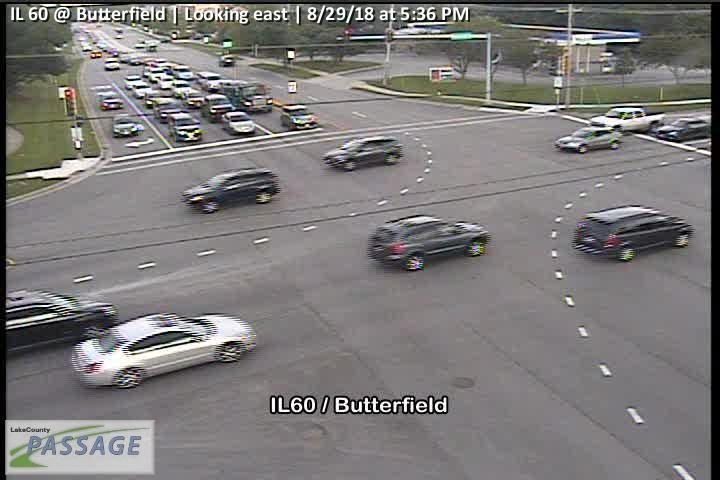SUV: (571, 205, 694, 263), (369, 214, 490, 270), (183, 169, 281, 213), (321, 135, 402, 170), (556, 126, 621, 154), (279, 104, 320, 132), (200, 93, 235, 124), (168, 112, 202, 142), (152, 97, 180, 123), (195, 71, 222, 93), (170, 64, 194, 81), (144, 88, 162, 106), (132, 81, 149, 99), (123, 75, 140, 90), (103, 58, 120, 70), (218, 54, 234, 66)
Sedan: (71, 311, 255, 389), (6, 290, 115, 351), (655, 116, 710, 142), (221, 111, 255, 136), (112, 115, 138, 138), (95, 91, 123, 110), (181, 90, 206, 109), (170, 81, 192, 98), (157, 73, 174, 89)
Truck: (589, 106, 666, 134), (221, 79, 272, 113)
